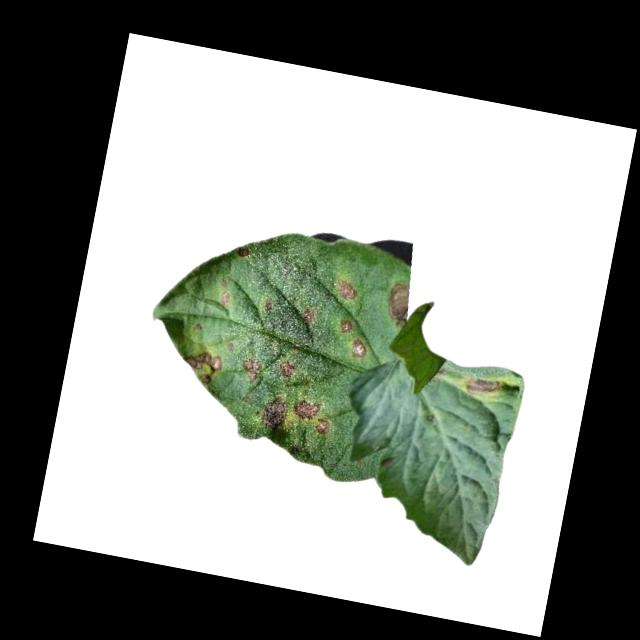Early_blight: (178, 345, 226, 390), (462, 367, 508, 406), (254, 390, 292, 433), (382, 279, 414, 328), (290, 398, 322, 425), (335, 278, 363, 302), (240, 356, 263, 384), (347, 338, 369, 363), (275, 358, 296, 382), (234, 244, 254, 263), (315, 417, 333, 436), (301, 306, 316, 324), (217, 290, 232, 307), (262, 296, 276, 314), (337, 319, 353, 334)
